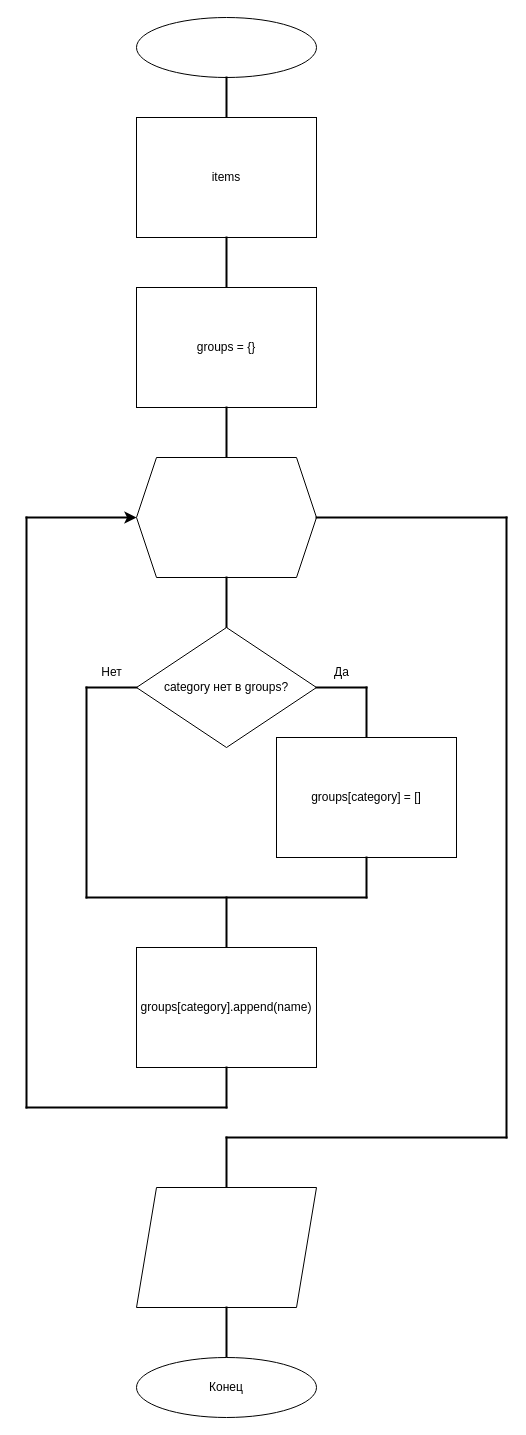
Some shapes in this 526 by 1435 pixel diagram are drawn without their labels. The centre of each missing label's shape, as x and y in pixels:
Вывод groups: (226,1247)
Для name, category в items: (226,517)
Начало: (226,47)
